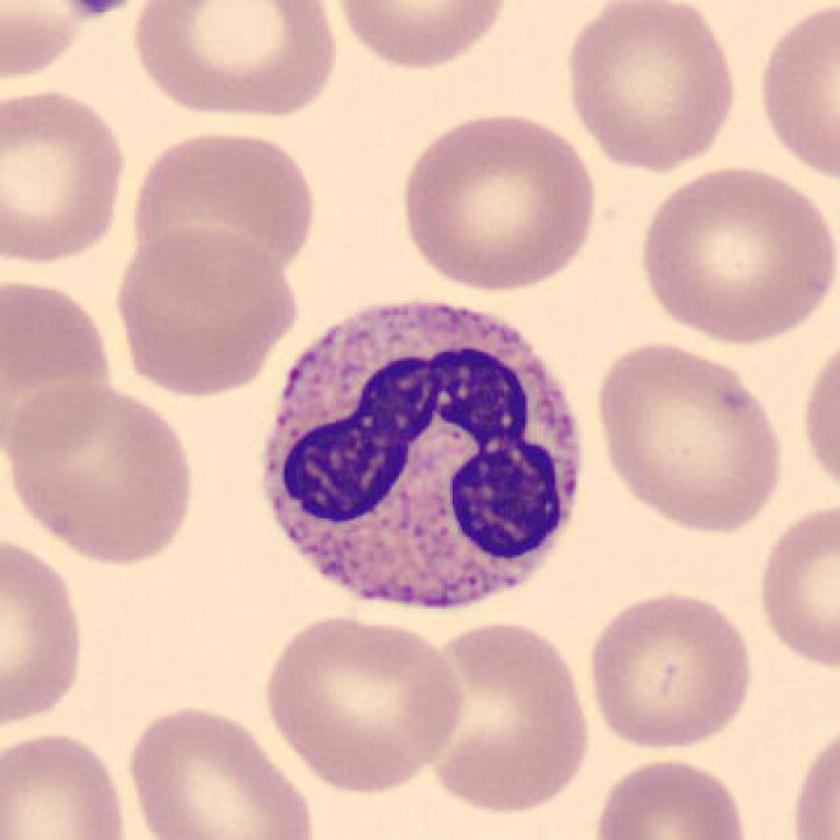neutrophil: (265, 302, 581, 609)
